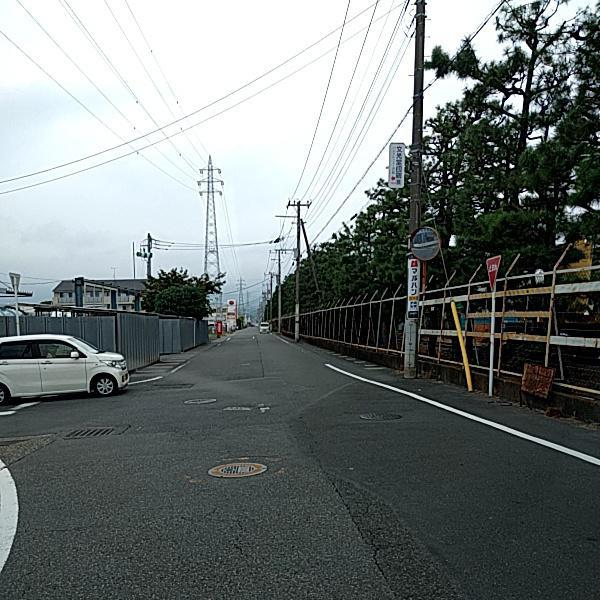D50: (209, 457, 270, 481), (356, 409, 404, 422), (178, 395, 216, 403)
